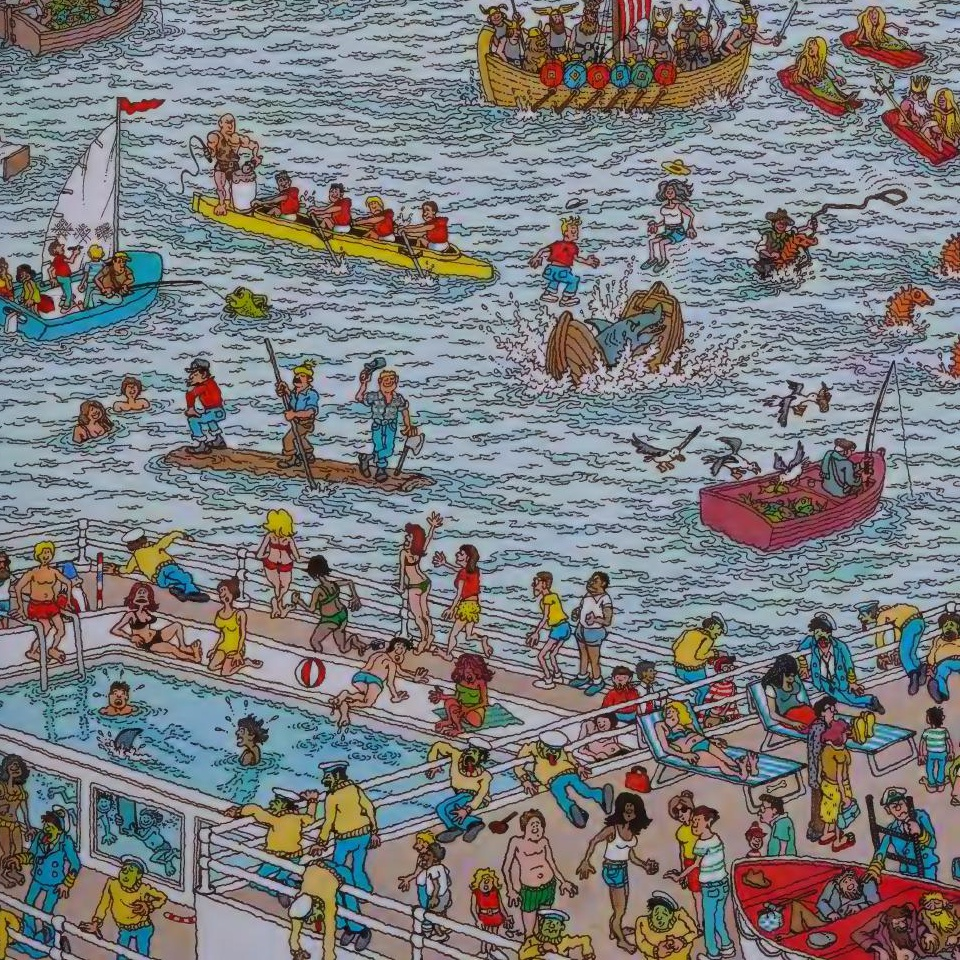waldo: (707, 656, 739, 717)
